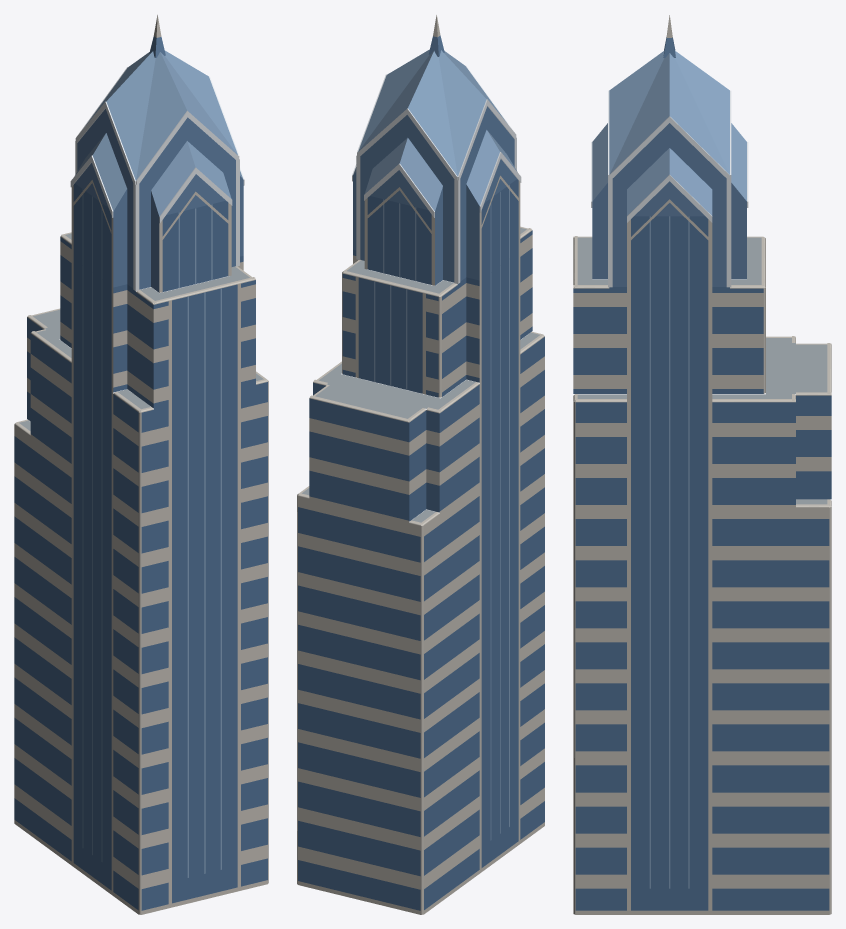
The model's file is phl-two-liberty-place.glb.
The picture shows the model from 3 angles, left to right: view 1: azimuth 30°, elevation 25°; view 2: azimuth 150°, elevation 25°; view 3: azimuth 270°, elevation 25°; orthographic projection. The views are drawn at different scales.
Parts seen in each view (by area): view 1: Two Liberty Place; view 2: Two Liberty Place; view 3: Two Liberty Place.
Part boxes in pixels (<box>): Two Liberty Place: <box>14,15,268,914</box>; Two Liberty Place: <box>297,15,544,914</box>; Two Liberty Place: <box>573,15,831,914</box>.
Size of the model in its own units: 40.2 by 248 by 66.75.
